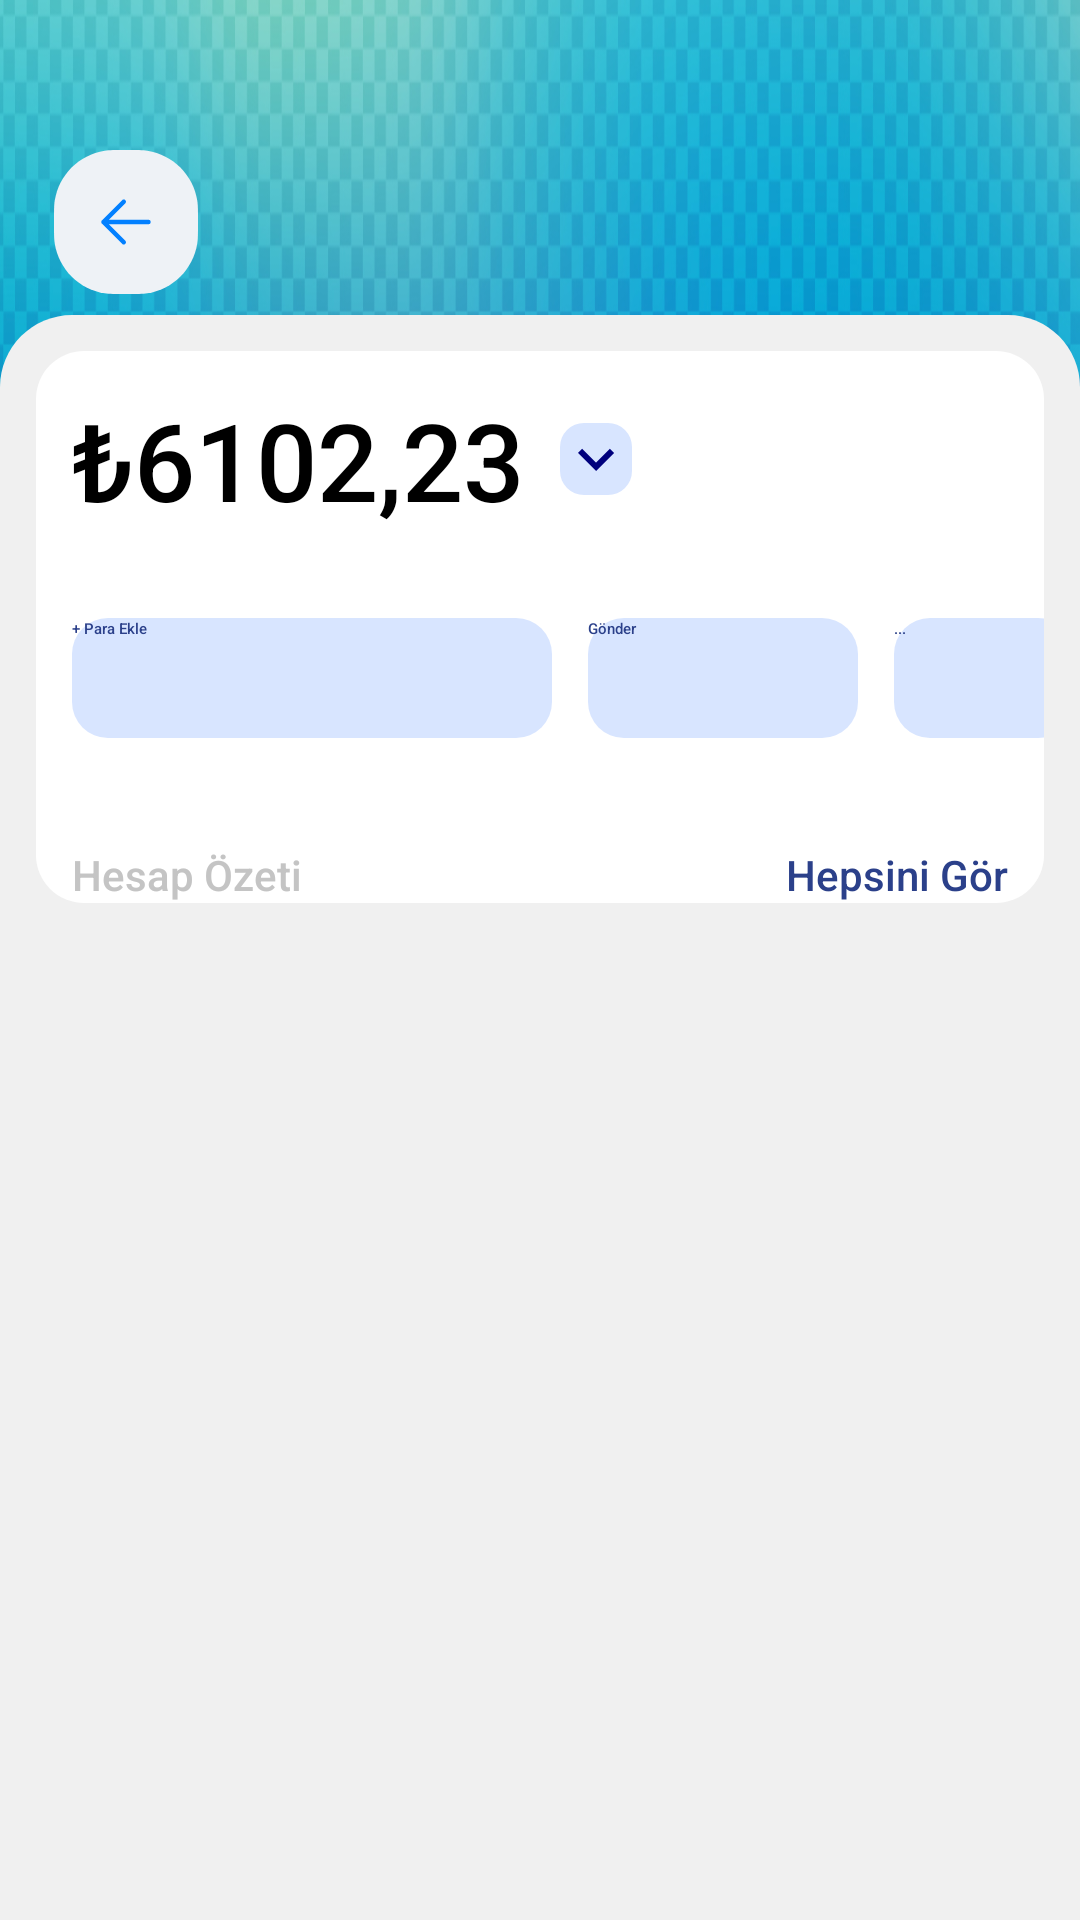

Icons on this 1080*1920 Android screen, each with its box as (x1, y1, x2, y2):
keyboard arrow down: (560, 423, 632, 495)
